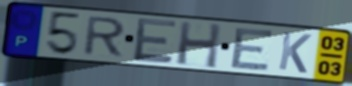5: (43, 11, 85, 57)
E: (132, 17, 179, 65), (228, 26, 277, 72)
H: (175, 20, 224, 71)
K: (276, 30, 314, 75)
R: (80, 16, 129, 59)
